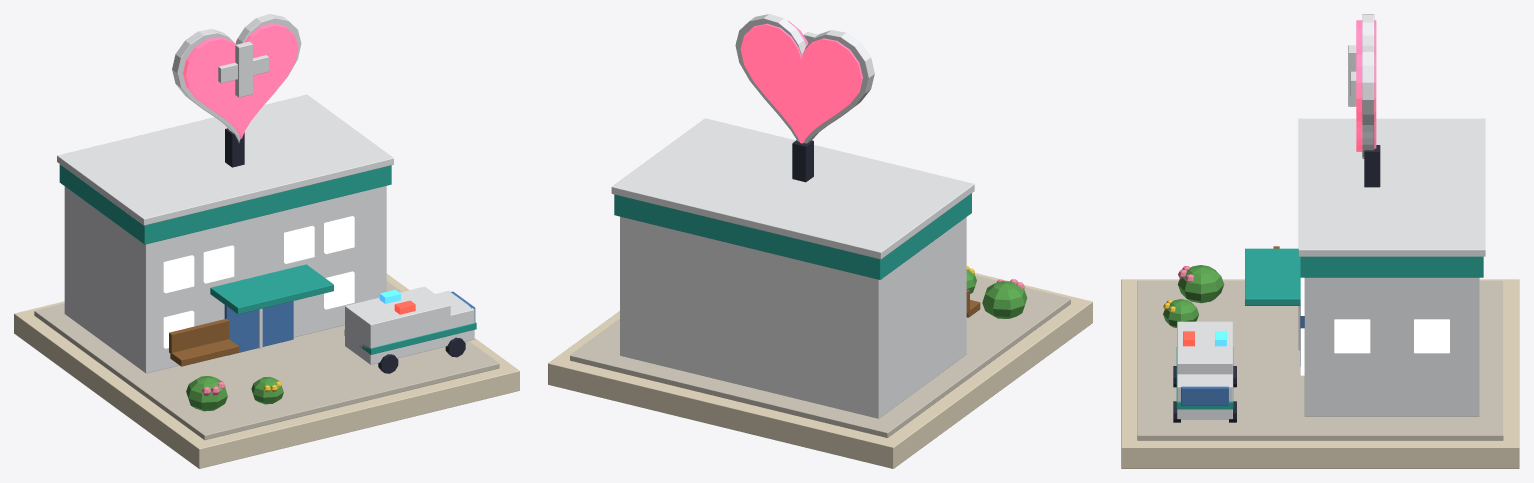
File: hospital.glb
3 renders of one model, left to right at view 1: azimuth 30°, elevation 25°; view 2: azimuth 150°, elevation 25°; view 3: azimuth 270°, elevation 25°, orthographic. The views are drawn at different scales.
Parts seen in each view (by area): view 1: Hospital; view 2: Hospital; view 3: Hospital.
Part boxes in pixels (x1,y1,x2,y2): Hospital: [14, 14, 519, 468]; Hospital: [548, 14, 1092, 468]; Hospital: [1121, 14, 1519, 468].
Size of the model in its own units: 2 by 1.93 by 2.
